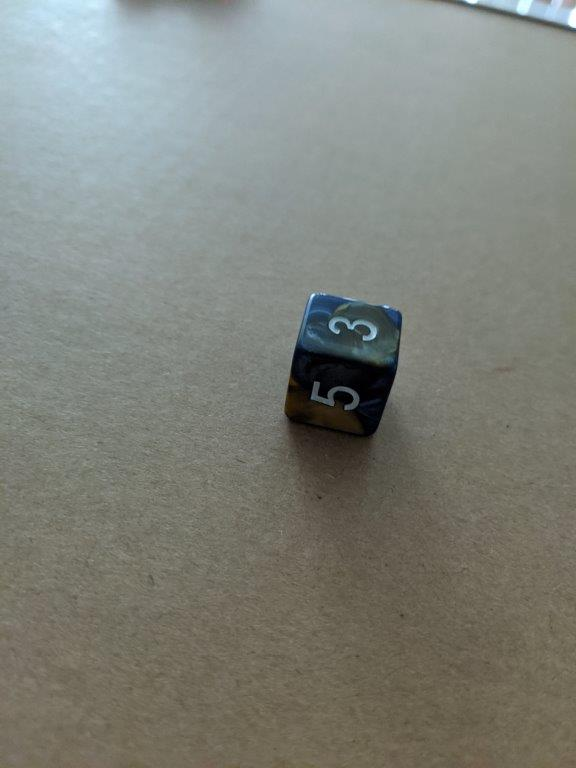d6-3: (282, 290, 406, 440)
